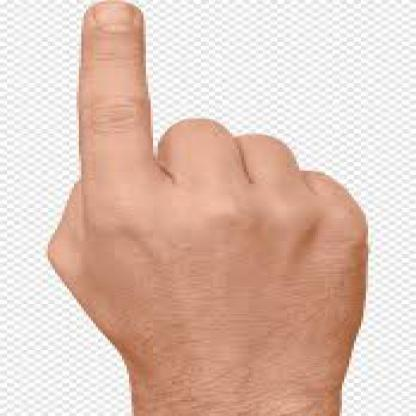Up: (55, 3, 350, 301)
